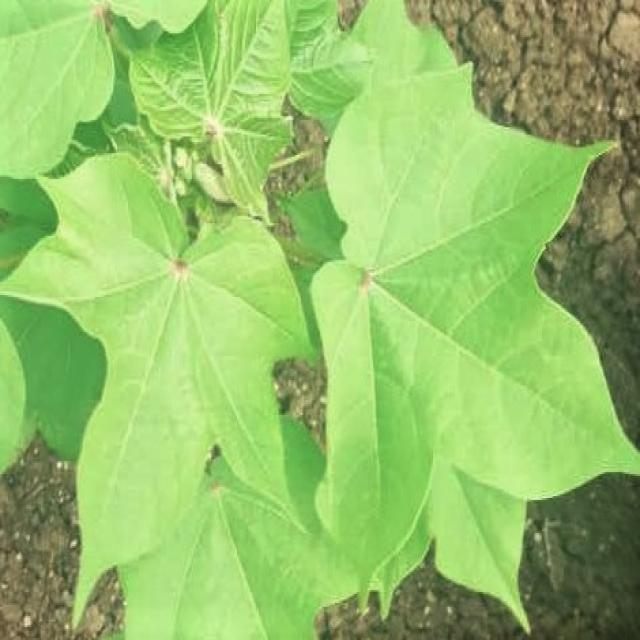Healthy Leaf: (22, 33, 558, 448)
